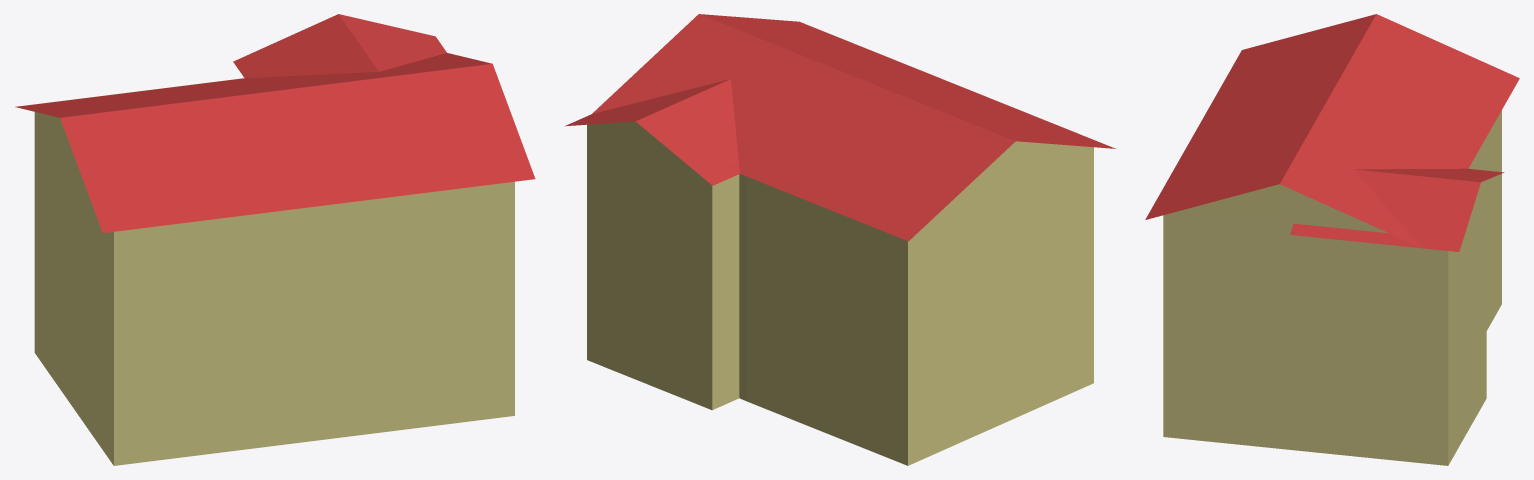
The picture shows the model from 3 angles, left to right: view 1: azimuth 30°, elevation 25°; view 2: azimuth 150°, elevation 25°; view 3: azimuth 270°, elevation 25°; orthographic projection. The views are drawn at different scales.
Bounding box in the file's own units: 15.9 × 12.47 × 9.95.
